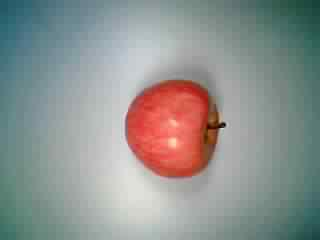apple: (123, 77, 227, 181)
